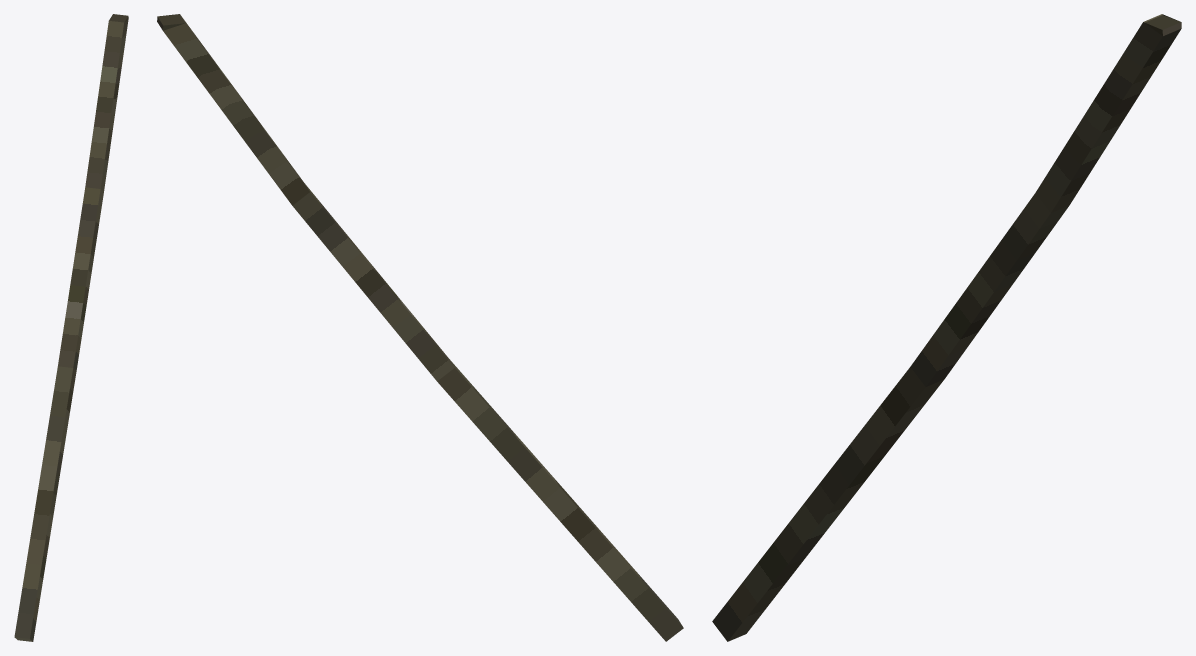
The model's file is rope_2wide_diag.obj.
The picture shows the model from 3 angles, left to right: view 1: azimuth 30°, elevation 25°; view 2: azimuth 150°, elevation 25°; view 3: azimuth 270°, elevation 25°; orthographic projection. The views are drawn at different scales.
Parts seen in each view (by area): view 1: cube; view 2: cube; view 3: cube.
Boxes of the visible parts, left/top/right/bottom form: cube: left=14, top=14, right=128, bottom=641; cube: left=157, top=14, right=683, bottom=641; cube: left=712, top=14, right=1181, bottom=641.
Size of the model in its own units: 1.1 by 2.06 by 1.1.
